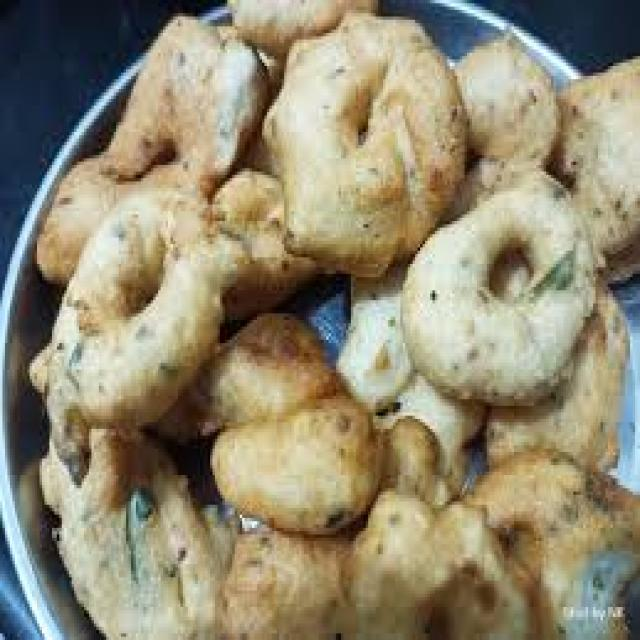MEDU VADA: (37, 18, 267, 285), (37, 180, 221, 491), (262, 11, 465, 268), (399, 172, 593, 403), (229, 0, 353, 52)
